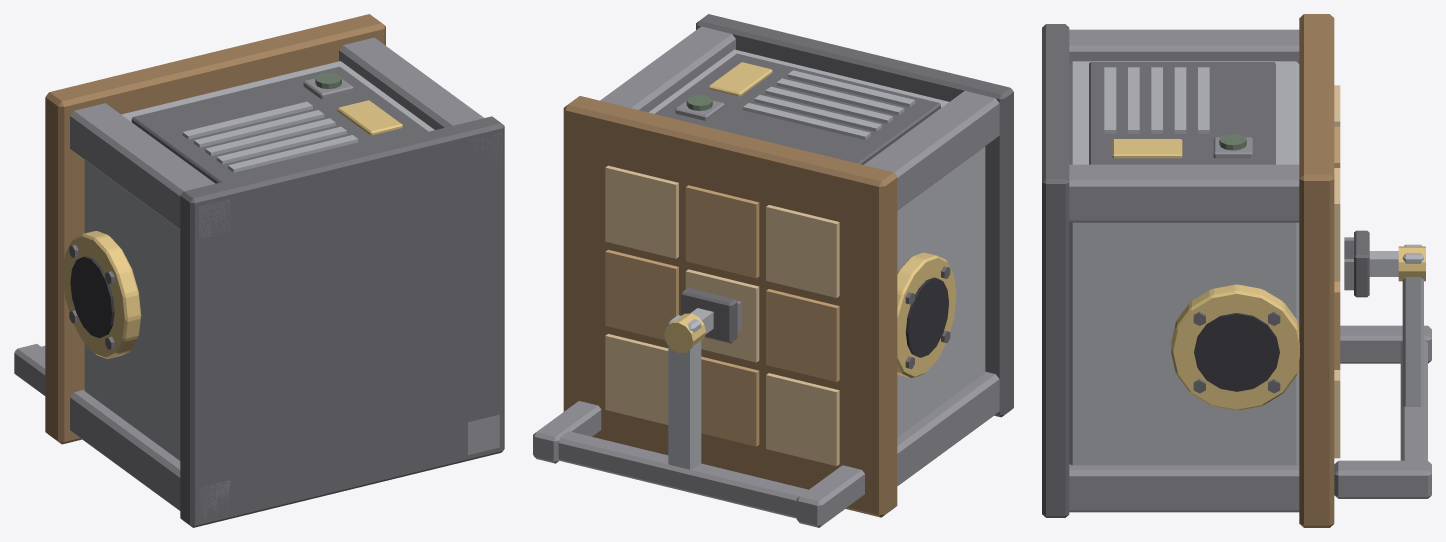
File: autocrafter_held.gltf
The picture shows the model from 3 angles, left to right: view 1: azimuth 30°, elevation 25°; view 2: azimuth 150°, elevation 25°; view 3: azimuth 270°, elevation 25°; orthographic projection. The views are drawn at different scales.
Parts seen in each view (by area): view 1: pipes_autocrafter_held; view 2: pipes_autocrafter_held; view 3: pipes_autocrafter_held.
Part boxes in pixels (x1=…): pipes_autocrafter_held: x1=14, y1=14, x2=504, y2=527; pipes_autocrafter_held: x1=533, y1=14, x2=1013, y2=527; pipes_autocrafter_held: x1=1042, y1=14, x2=1431, y2=527.
Bounding box in the file's own units: 0.1603 × 0.1602 × 0.16.
